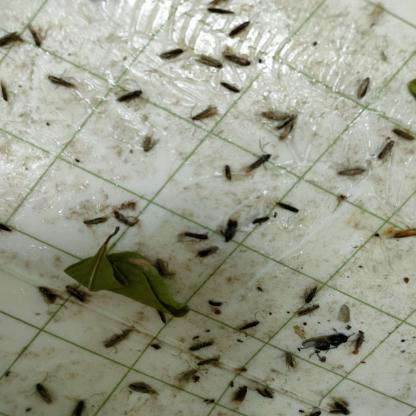prays_oleae: (31, 266, 61, 314), (105, 316, 138, 354), (43, 66, 81, 96), (0, 9, 25, 54), (190, 240, 222, 274), (390, 219, 416, 258), (112, 204, 141, 238), (392, 118, 416, 158), (190, 96, 218, 130), (0, 211, 26, 247), (244, 144, 273, 176), (63, 278, 92, 308), (169, 365, 200, 391), (83, 204, 108, 236), (253, 370, 275, 406), (280, 338, 298, 381), (33, 8, 54, 44), (127, 377, 157, 402), (142, 126, 159, 169), (334, 160, 367, 182), (30, 374, 53, 404), (353, 74, 372, 107), (196, 48, 220, 74), (276, 198, 298, 226), (114, 87, 146, 106), (236, 322, 266, 342), (258, 102, 288, 122), (161, 46, 187, 69), (377, 136, 396, 165), (250, 211, 272, 235), (232, 380, 250, 408), (326, 393, 350, 414), (0, 73, 12, 114), (64, 392, 85, 415), (180, 226, 209, 242), (221, 79, 243, 100), (354, 321, 366, 358), (232, 358, 250, 382), (224, 48, 249, 65), (278, 122, 298, 142), (296, 308, 324, 322), (226, 26, 254, 40), (222, 158, 235, 187), (206, 4, 234, 17), (187, 339, 218, 349), (196, 358, 223, 369), (308, 398, 322, 414)
